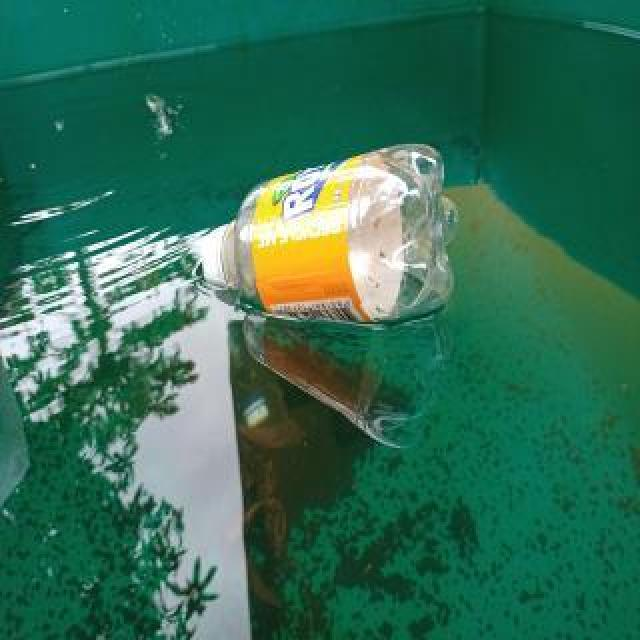bottle: (199, 140, 461, 332)
